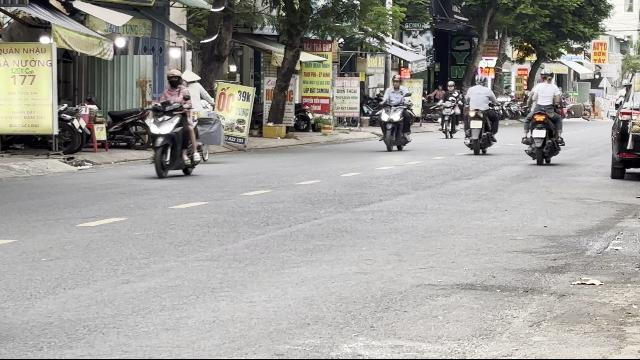helmet: (165, 68, 182, 88)
motorcyclist: (144, 68, 203, 178)
